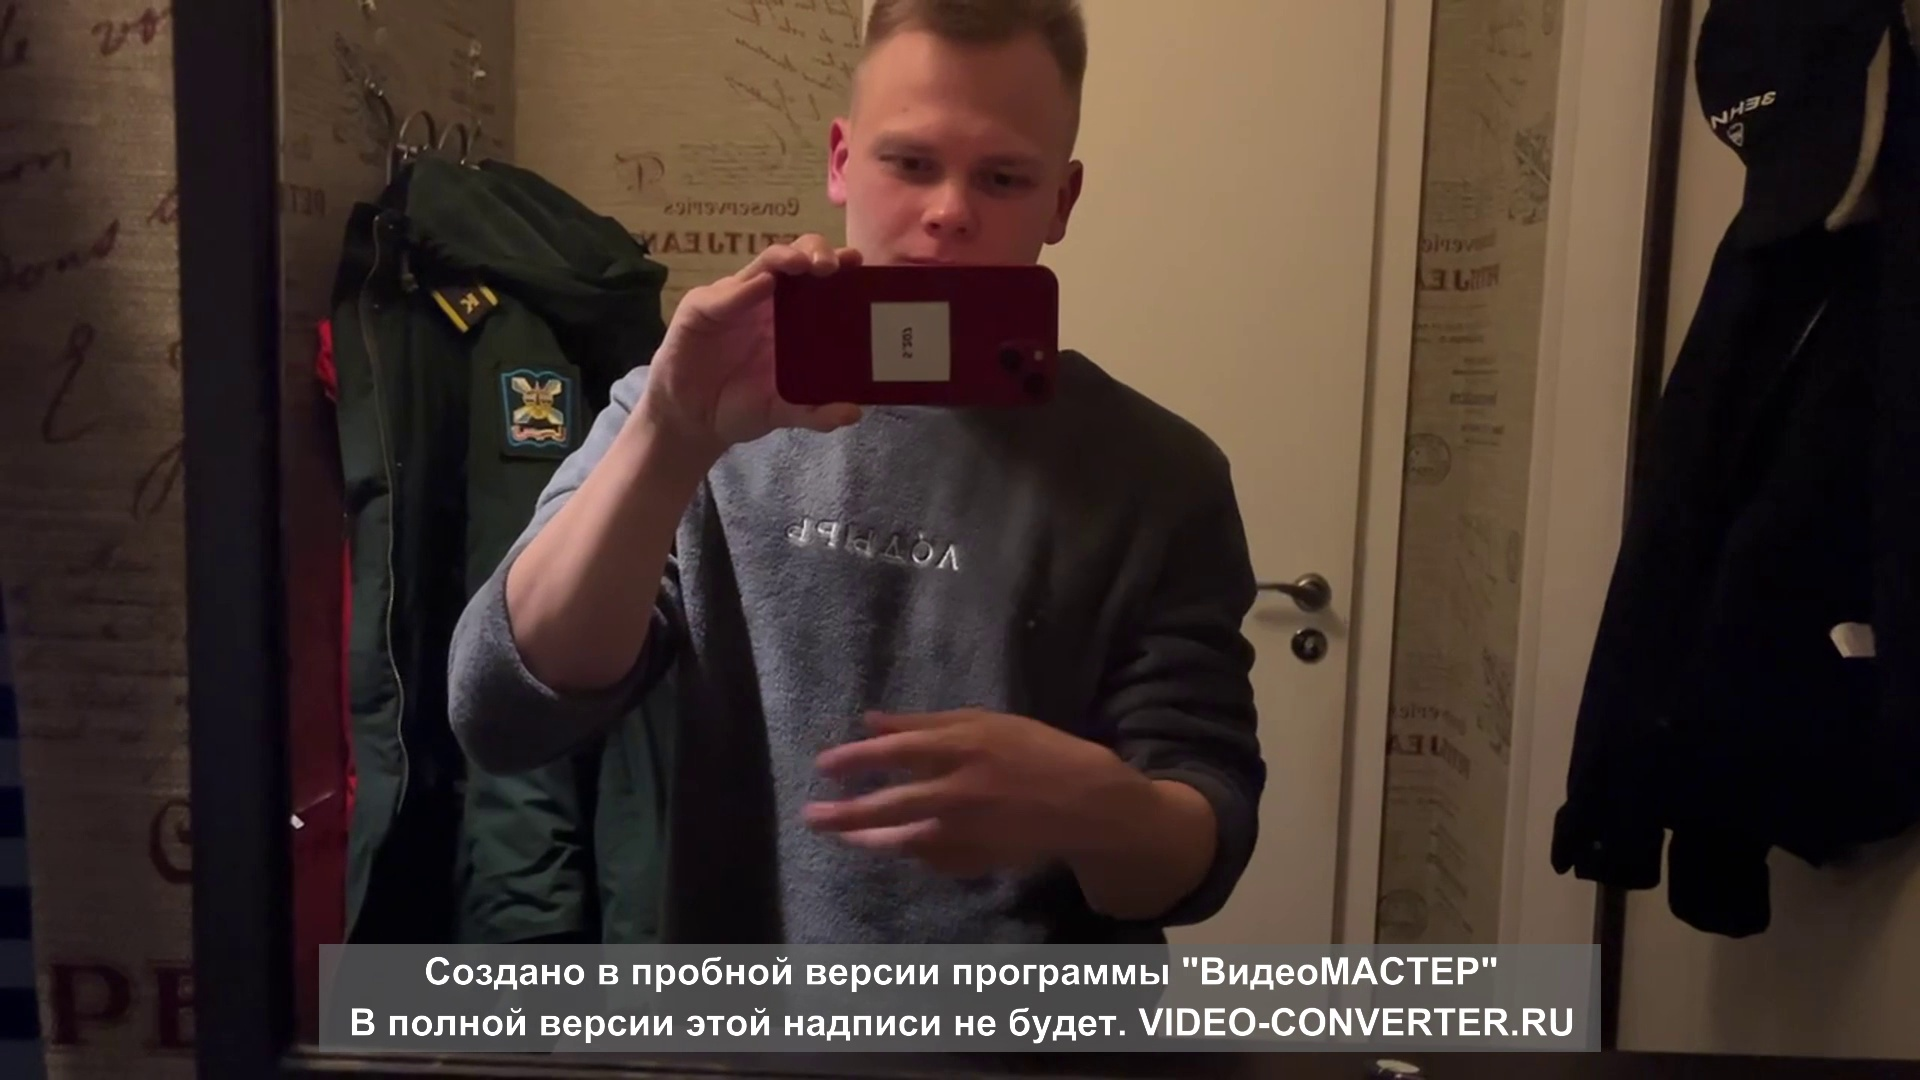Кисть: (798, 704, 1121, 874)
